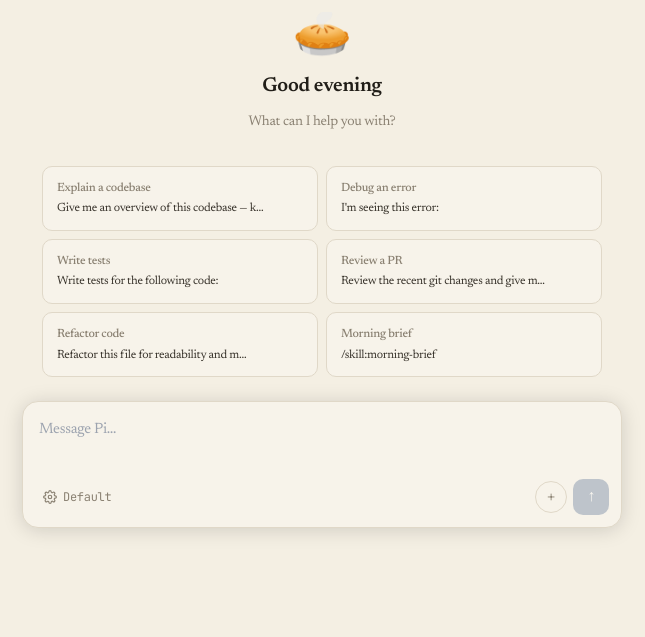
it: WelcomeView › renders model picker when config is expanded
What coordinates should you click on to do the following:
click the button titled "Model & workspace"
I would click on:
 (77, 497)
Its box is [35,484,120,510].
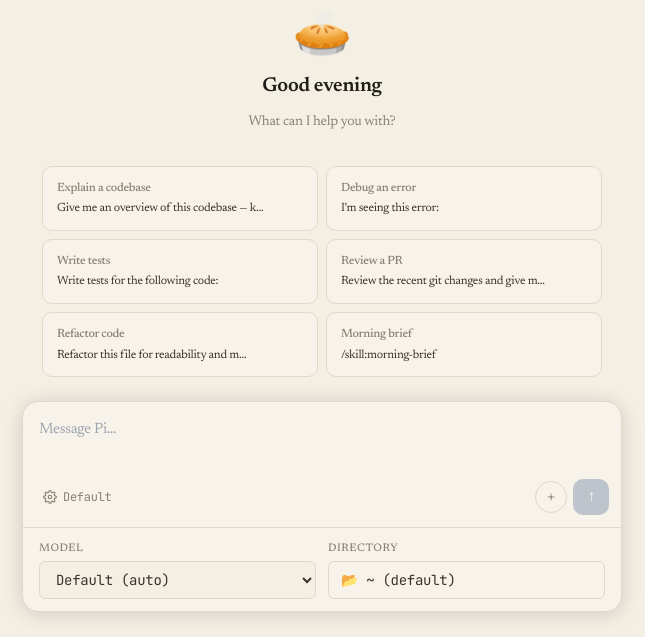
Check: the text "Model" is shown, box [39,543,84,554]
